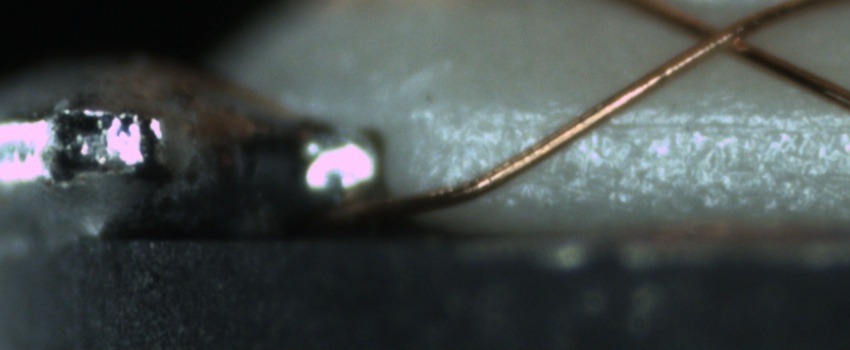CL: (672, 4, 771, 66)
DL: (596, 93, 850, 154)
